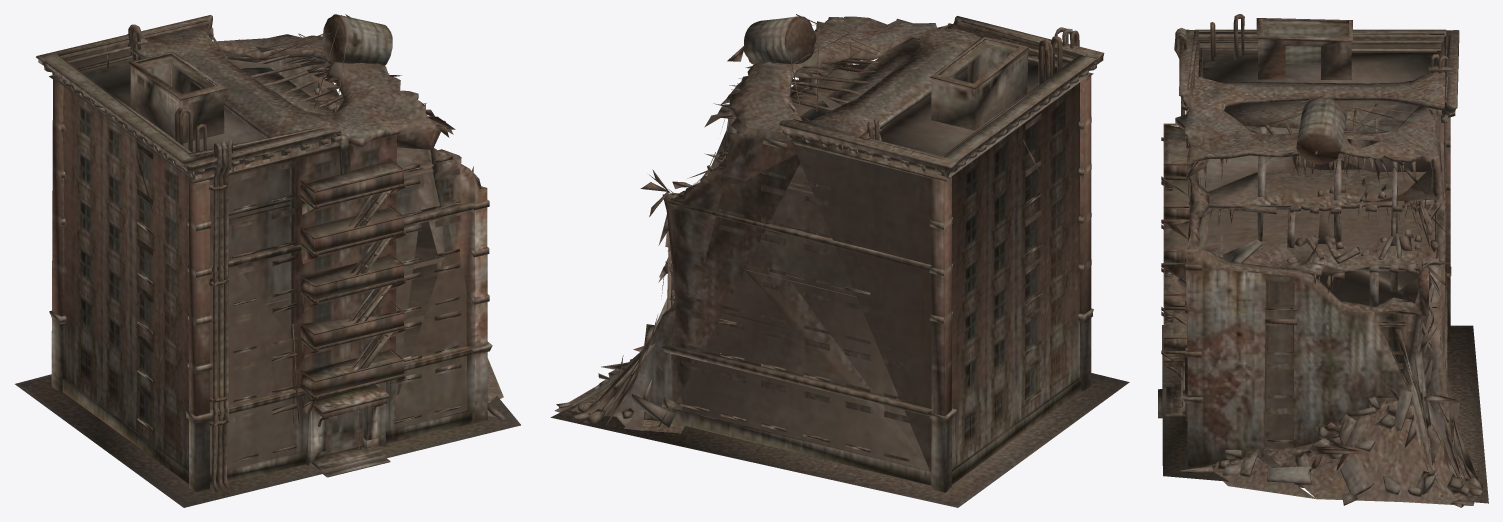
Rendered from reactor-city-apartment-ruin.glb.
3 renders of one model, left to right at view 1: azimuth 30°, elevation 25°; view 2: azimuth 150°, elevation 25°; view 3: azimuth 270°, elevation 25°, orthographic. The views are drawn at different scales.
Parts seen in each view (by area): view 1: reactor-city-apartment-ruin; view 2: reactor-city-apartment-ruin; view 3: reactor-city-apartment-ruin.
Boxes of the visible parts, bbox=[...] form: reactor-city-apartment-ruin: bbox=[15, 14, 520, 507]; reactor-city-apartment-ruin: bbox=[550, 14, 1129, 507]; reactor-city-apartment-ruin: bbox=[1158, 14, 1488, 507].
Size of the model in its own units: 27.3 by 24 by 21.01.
Materials: 1 (1 with a texture image).
